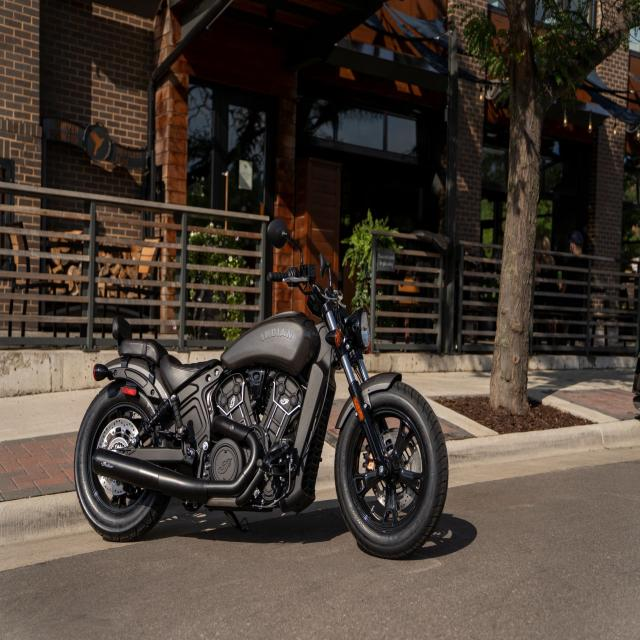motorcycle: (75, 219, 448, 557)
